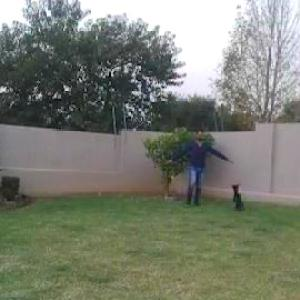land: (149, 113, 225, 217)
